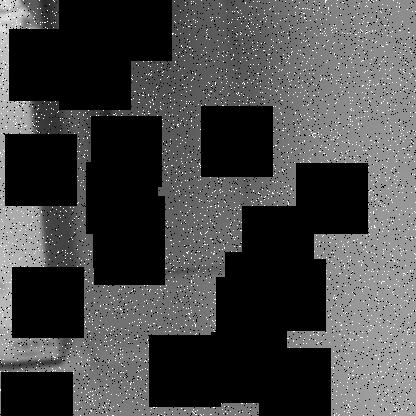Porte: (73, 1, 255, 286)
